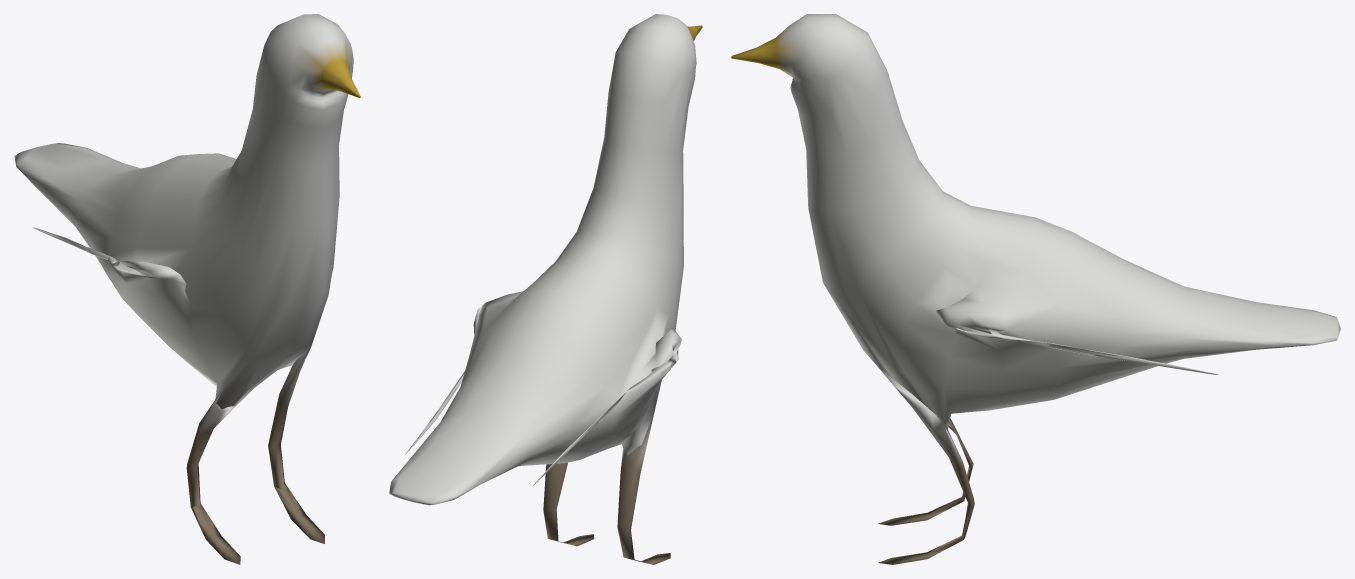
File: cormorant-0.glb
3 views of the same model, side by side, from view 1: azimuth 30°, elevation 25°; view 2: azimuth 150°, elevation 25°; view 3: azimuth 270°, elevation 25° (orthographic). The views are drawn at different scales.
Visible parts, largest first — view 1: cormorant; view 2: cormorant; view 3: cormorant.
Boxes of the visible parts, x1,y1,x2,y2 form: cormorant: [14, 14, 360, 564]; cormorant: [389, 14, 702, 564]; cormorant: [731, 14, 1340, 564].
Bounding box in the file's own units: 0.2338 × 0.565 × 0.5934.
